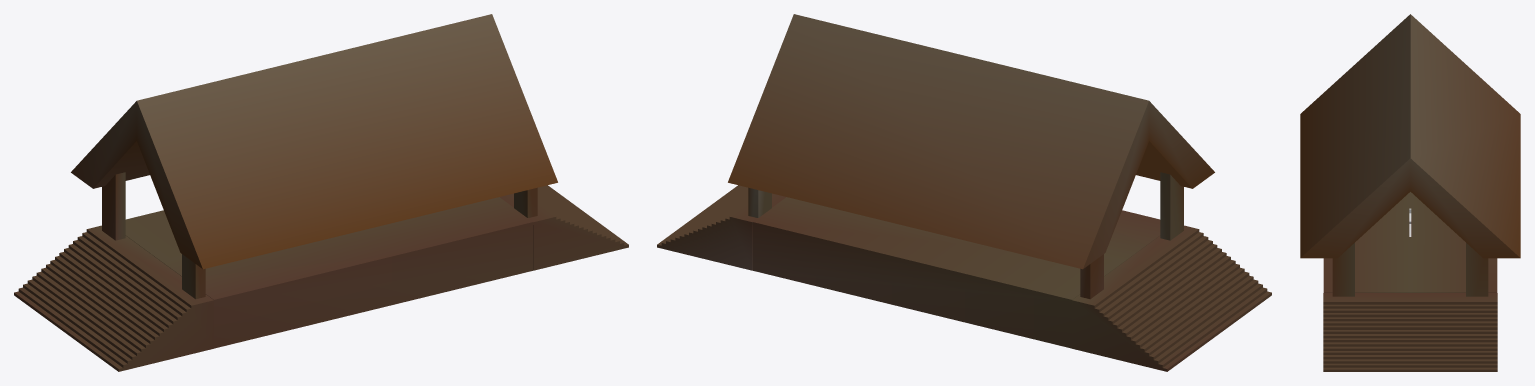
File: sawmill.fbx
3 renders of one model, left to right at view 1: azimuth 30°, elevation 25°; view 2: azimuth 150°, elevation 25°; view 3: azimuth 270°, elevation 25°, orthographic. The views are drawn at different scales.
Parts seen in each view (by area): view 1: Cube.001; view 2: Cube.001; view 3: Cube.001.
Part boxes in pixels (box(x1,y1,x2,y2)): Cube.001: box(14, 14, 628, 371); Cube.001: box(657, 14, 1271, 371); Cube.001: box(1300, 14, 1520, 371).
Size of the model in its own units: 2246 by 911 by 1009.
